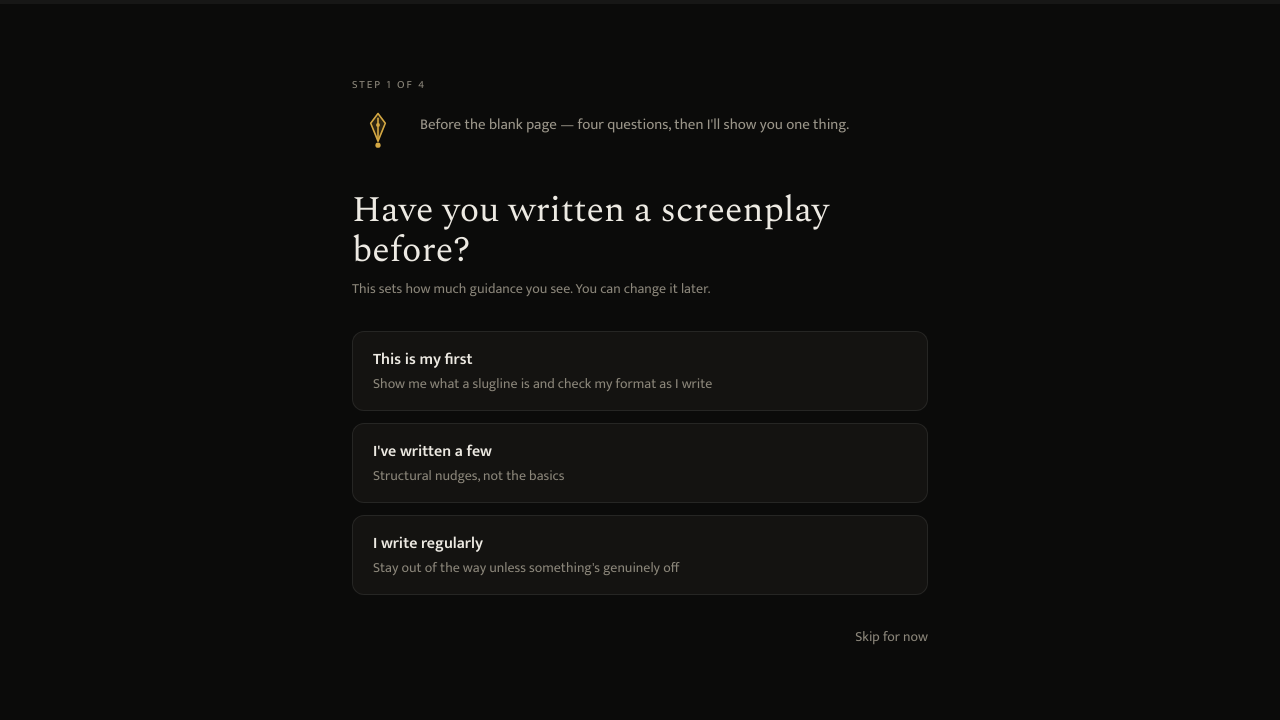
it: stepping through › advances on an answer
Step 1. Click the text "This is my first" → [423, 360], box 373,346 -> 473,373
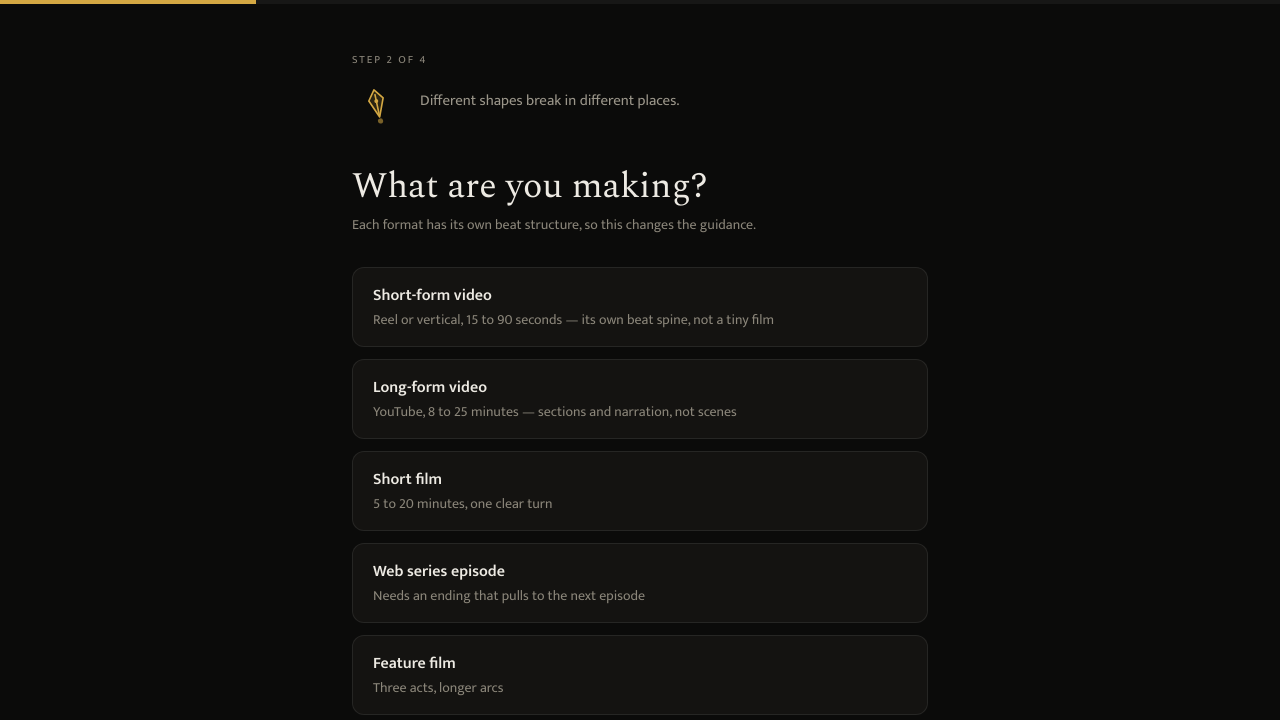
Expected: the text "Step 2 of 4" is shown, 352,51 -> 427,69
Expected: the heading "What are you making?" is shown, 352,158 -> 708,214
